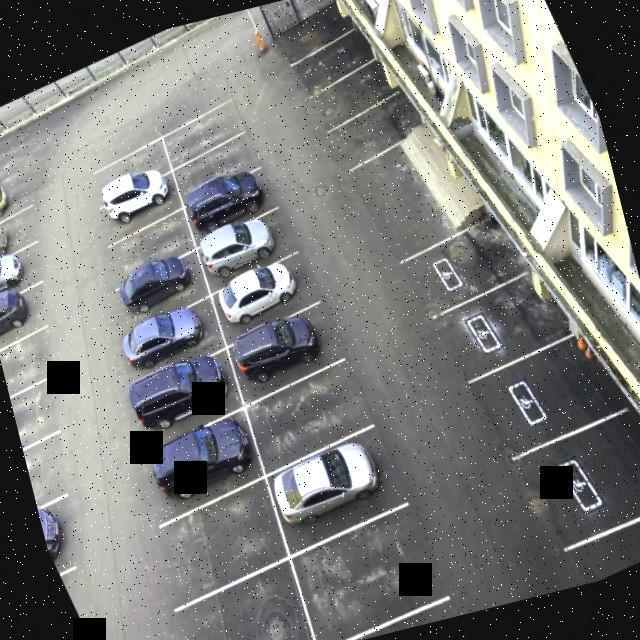car: (258, 419, 408, 546), (132, 405, 268, 522), (218, 297, 354, 411), (113, 339, 248, 446), (108, 284, 234, 388), (187, 201, 309, 295), (213, 248, 324, 342), (180, 162, 288, 248), (104, 243, 210, 324), (94, 167, 187, 246), (0, 278, 58, 350), (35, 494, 82, 578), (0, 238, 49, 308), (0, 207, 40, 270), (0, 170, 37, 235)
free: (497, 384, 640, 568), (454, 315, 626, 464), (275, 496, 451, 640), (130, 470, 302, 616), (229, 352, 387, 476), (418, 260, 568, 383), (383, 212, 527, 318), (151, 557, 324, 640), (314, 87, 432, 173), (292, 50, 409, 136), (102, 203, 202, 283), (279, 24, 384, 99), (150, 96, 250, 170), (168, 131, 269, 204), (18, 422, 88, 516), (86, 132, 176, 200), (7, 372, 72, 453), (0, 327, 68, 400)
